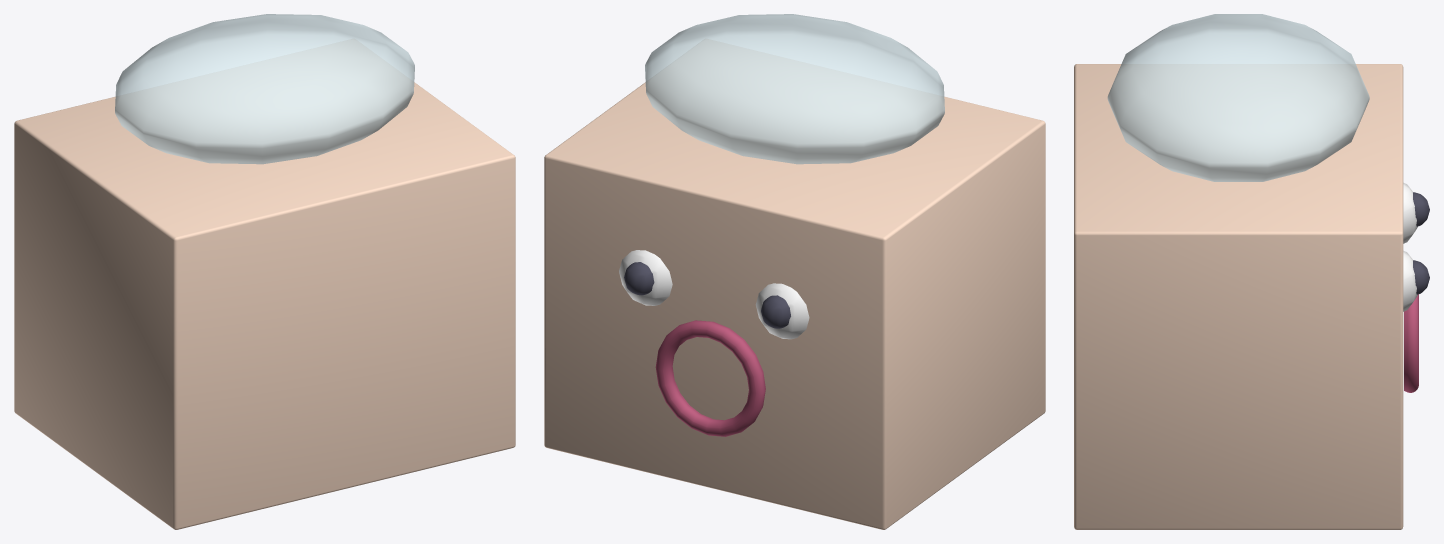
The model's file is wallcell.glb.
3 views of the same model, side by side, from view 1: azimuth 30°, elevation 25°; view 2: azimuth 150°, elevation 25°; view 3: azimuth 270°, elevation 25° (orthographic).
Visible parts, largest first — view 1: wallcell; view 2: wallcell; view 3: wallcell.
Part boxes in pixels (x1,y1,x2,y2): wallcell: (14, 14, 515, 529); wallcell: (544, 14, 1045, 529); wallcell: (1074, 14, 1429, 529).
Size of the model in its own units: 1.1 by 1.2 by 0.9731.
